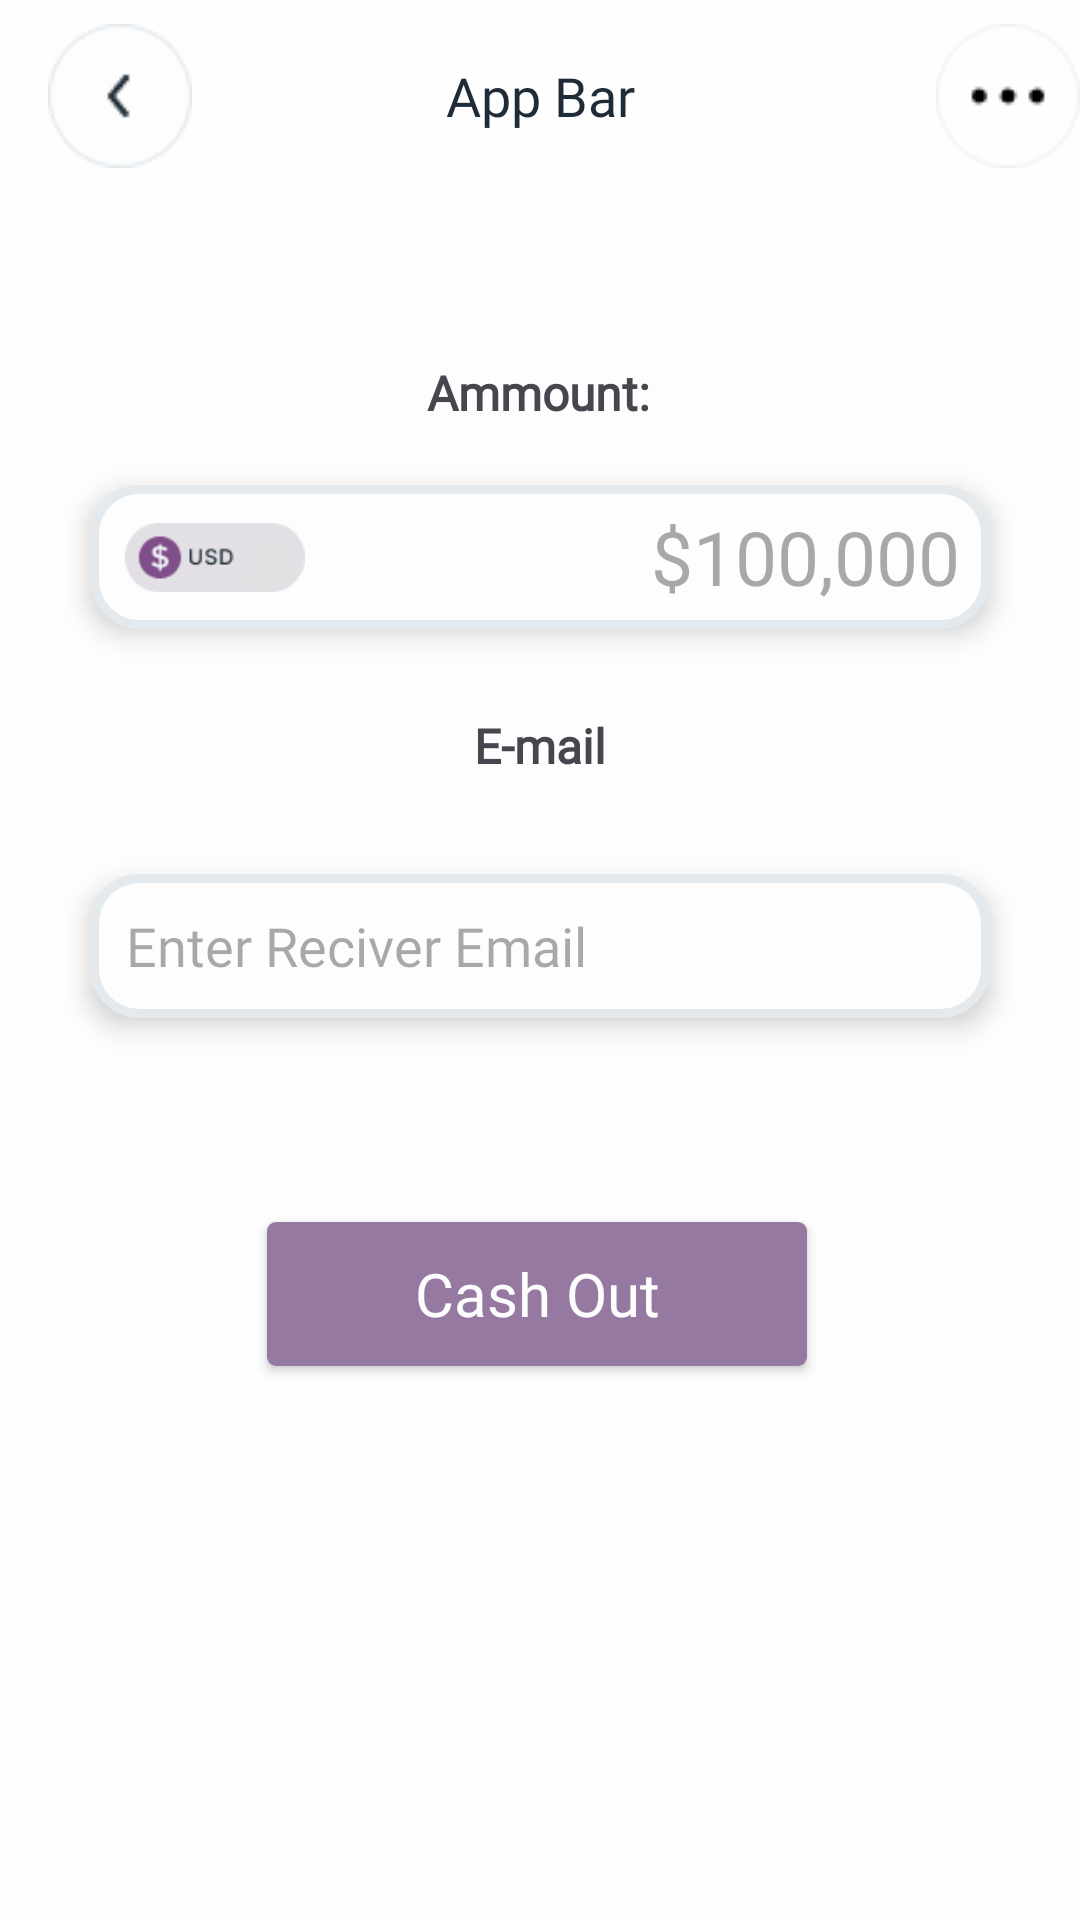

Icon bounding boxes for this 1080x1920 phone screenshot, format (x1, y1, x2, y2):
arrow back: (48, 24, 192, 168)
three dot: (971, 86, 1045, 106)
